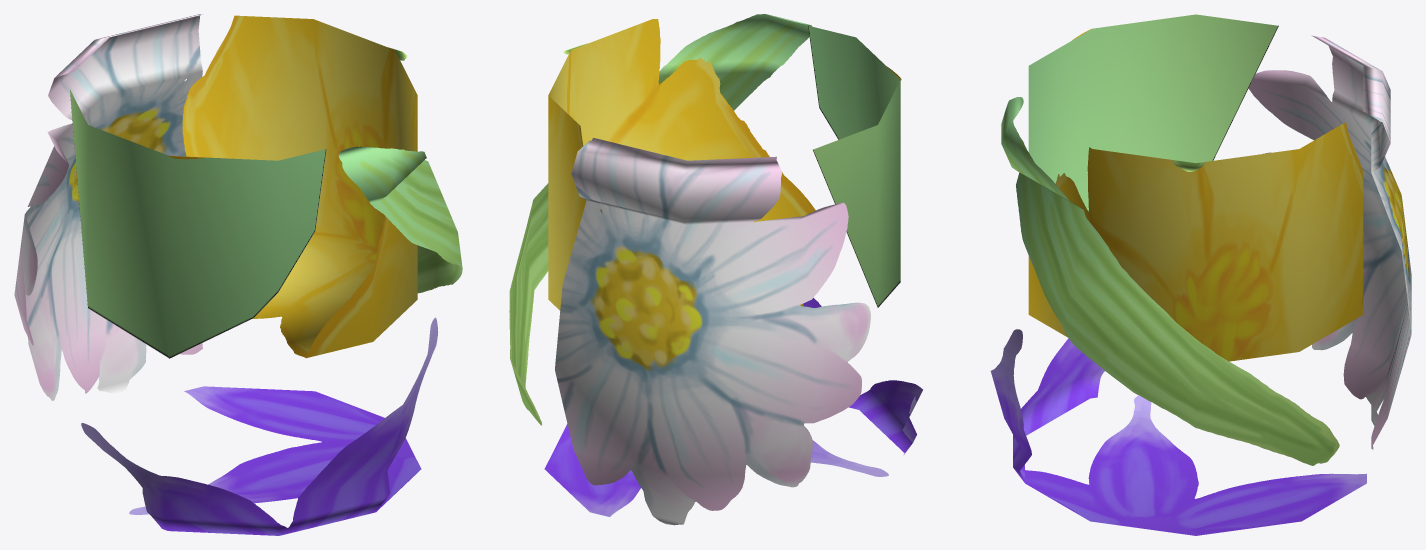
Rendered from Plantpot1.fbx.
3 views of the same model, side by side, from view 1: azimuth 30°, elevation 25°; view 2: azimuth 150°, elevation 25°; view 3: azimuth 270°, elevation 25° (orthographic).
Parts seen in each view (by area): view 1: PlantPot1; view 2: PlantPot1; view 3: PlantPot1.
Boxes of the visible parts, <box> form: PlantPot1: <box>14,14,462,535</box>; PlantPot1: <box>509,14,922,525</box>; PlantPot1: <box>990,14,1411,535</box>.
Size of the model in its own units: 36.72 by 33.15 by 34.92.
